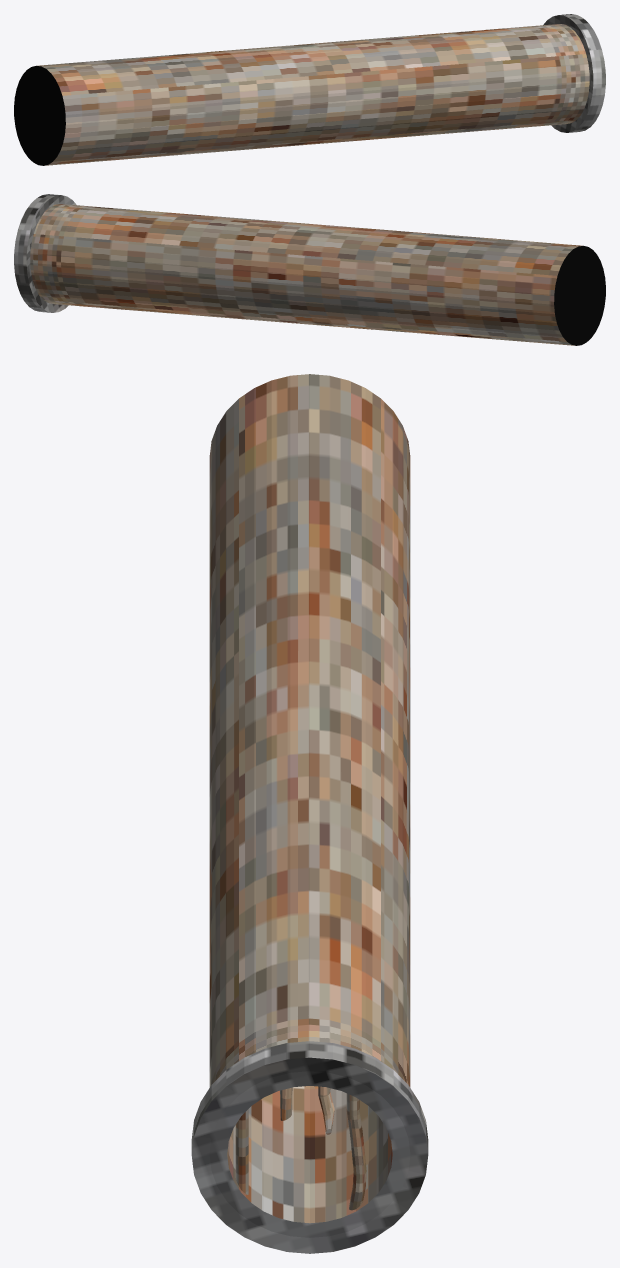
File: Long pipe (1).fbx
3 views of the same model, one above another, from view 1: azimuth 30°, elevation 25°; view 2: azimuth 150°, elevation 25°; view 3: azimuth 270°, elevation 25° (orthographic). The views are drawn at different scales.
Visible parts, largest first — view 1: Cylinder.003; view 2: Cylinder.003; view 3: Cylinder.003.
Boxes of the visible parts, left/top/right/bottom form: Cylinder.003: left=14, top=14, right=605, bottom=165; Cylinder.003: left=14, top=194, right=605, bottom=345; Cylinder.003: left=191, top=374, right=428, bottom=1253.
Size of the model in its own units: 1276 by 408 by 235.
3 materials, 2 textured.
